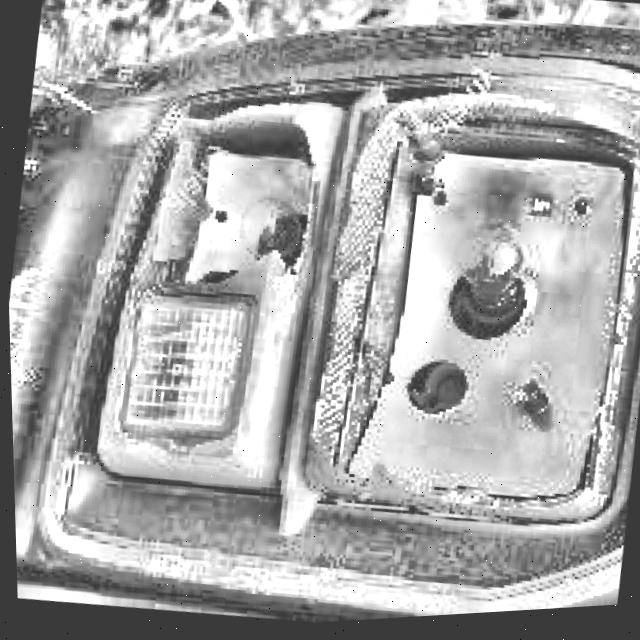tail_lamp: (305, 90, 640, 538), (92, 100, 327, 496)
